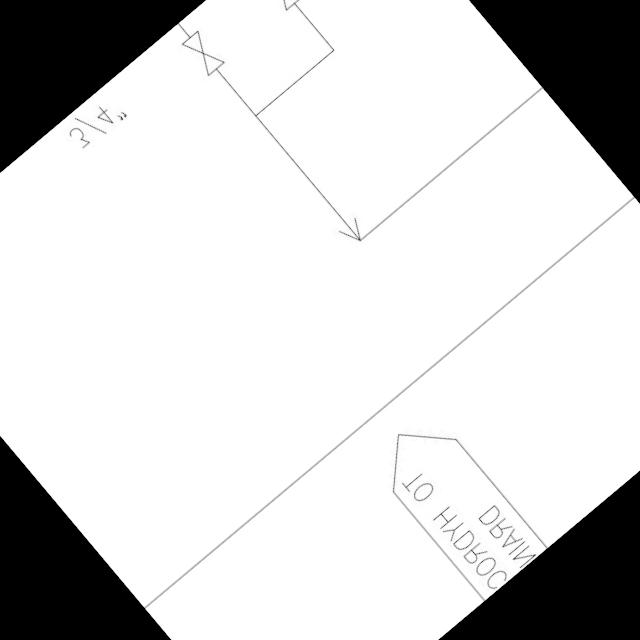BV2: (252, 0, 308, 16)
GV: (174, 23, 230, 82)
